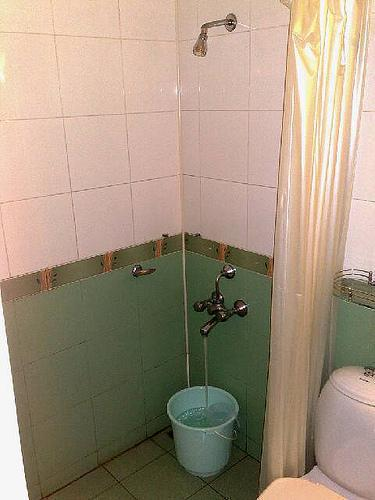Ducha: (157, 4, 285, 464)
Sanitario: (248, 355, 374, 499)
